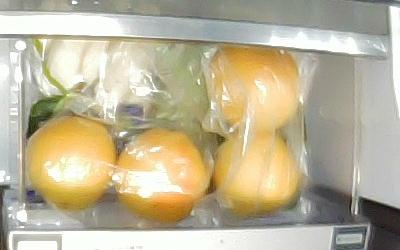grapefruit_vinyl: (26, 116, 116, 212), (117, 129, 207, 223), (208, 49, 299, 133), (214, 132, 299, 214)
